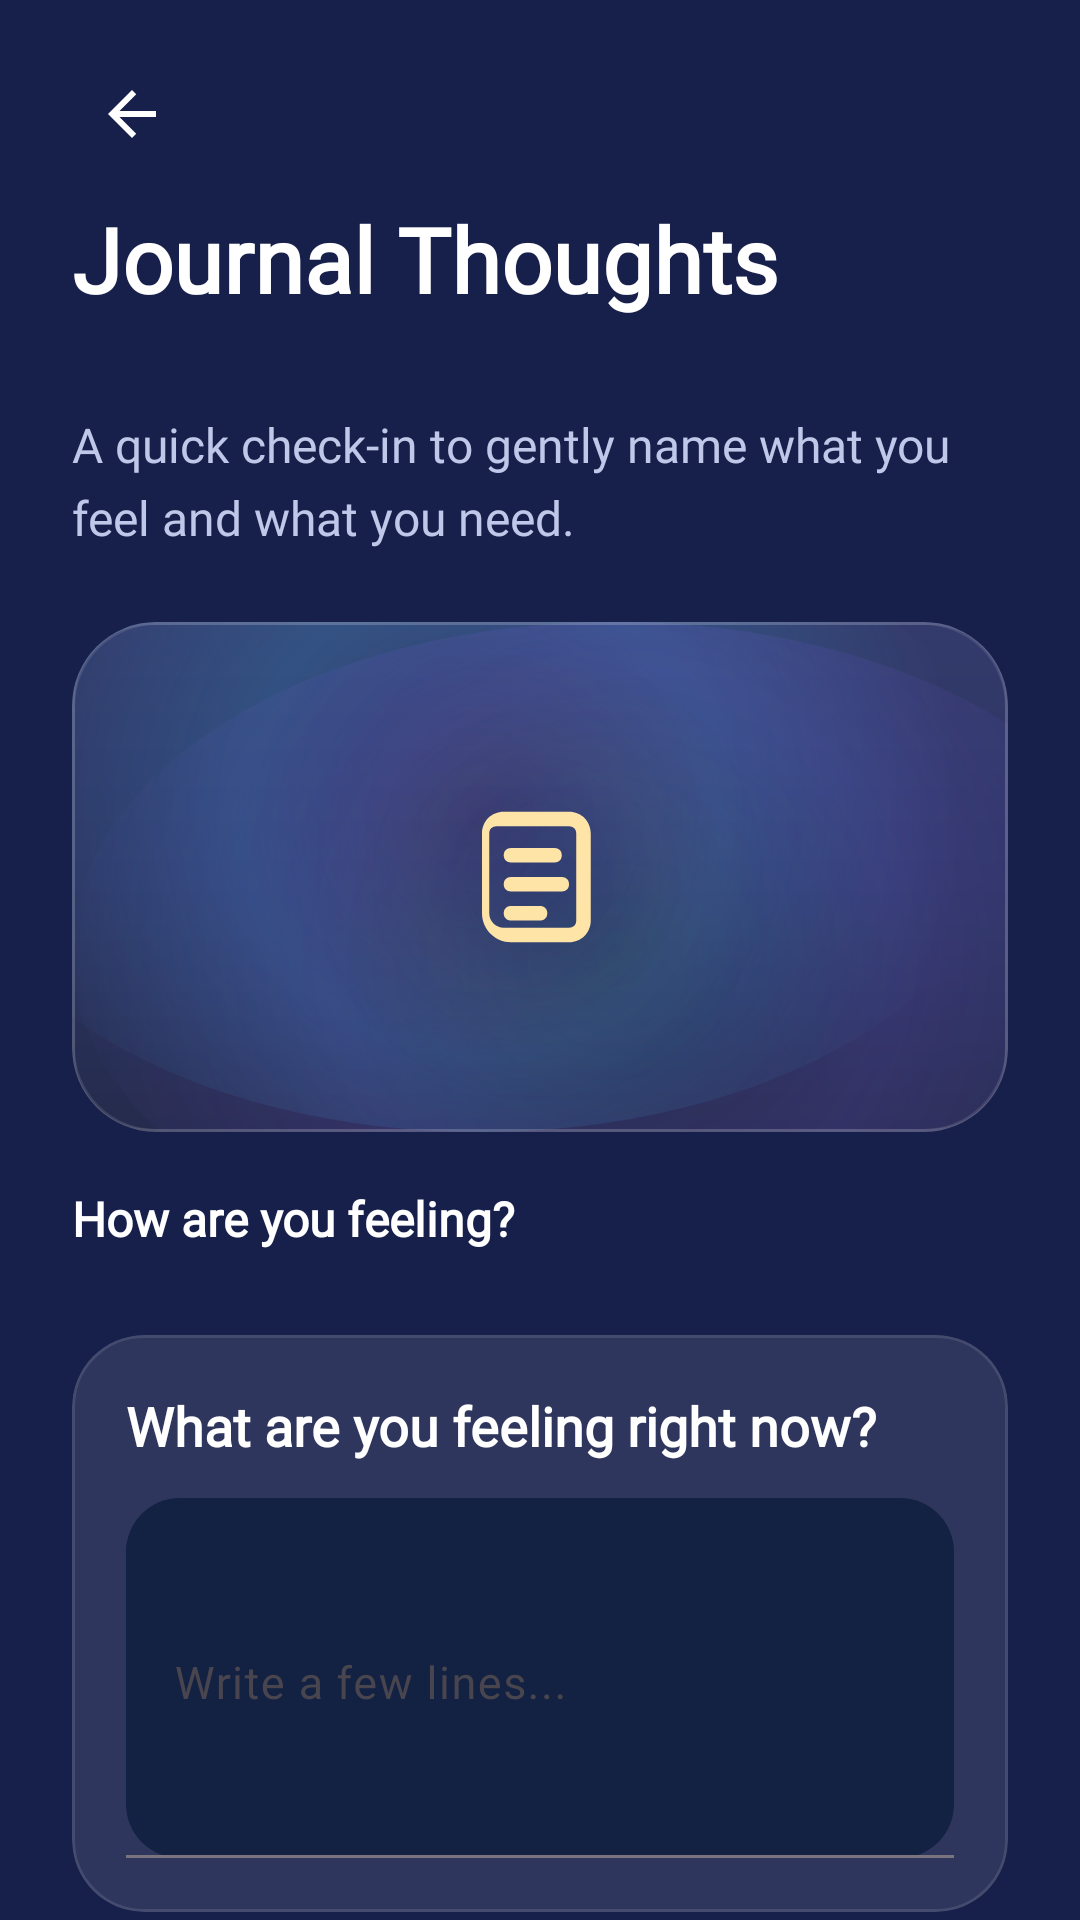

Named icons in this screenshot (1080w x 1920h) and their bounding boxes, (left=x1, top=y1, right=x2, bottom=y2):
Back: (left=108, top=90, right=156, bottom=138)
